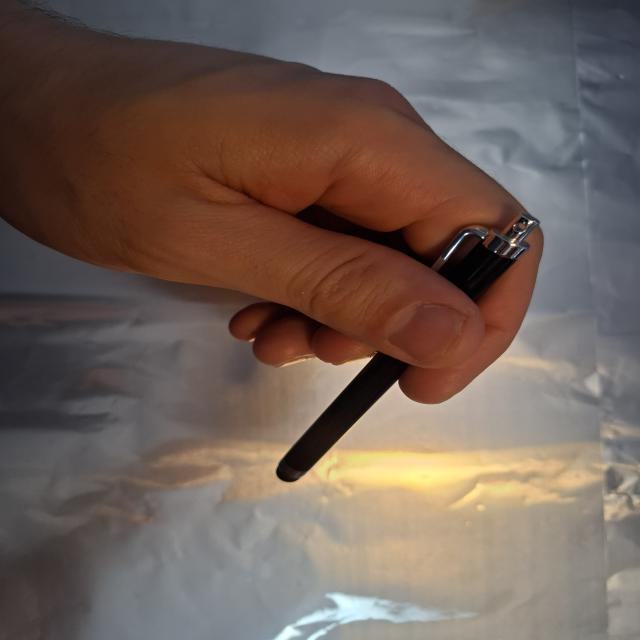glove_off: (4, 13, 547, 406)
